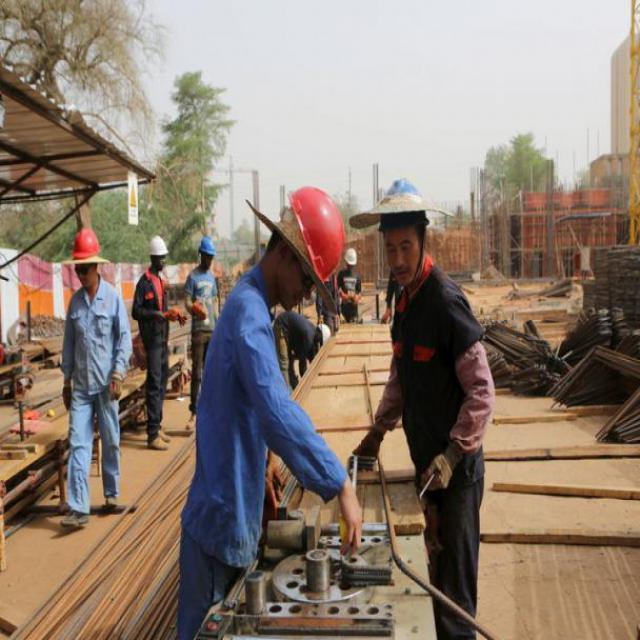helmet: (269, 152, 352, 332), (68, 212, 108, 285), (148, 224, 170, 277), (193, 232, 221, 273)
